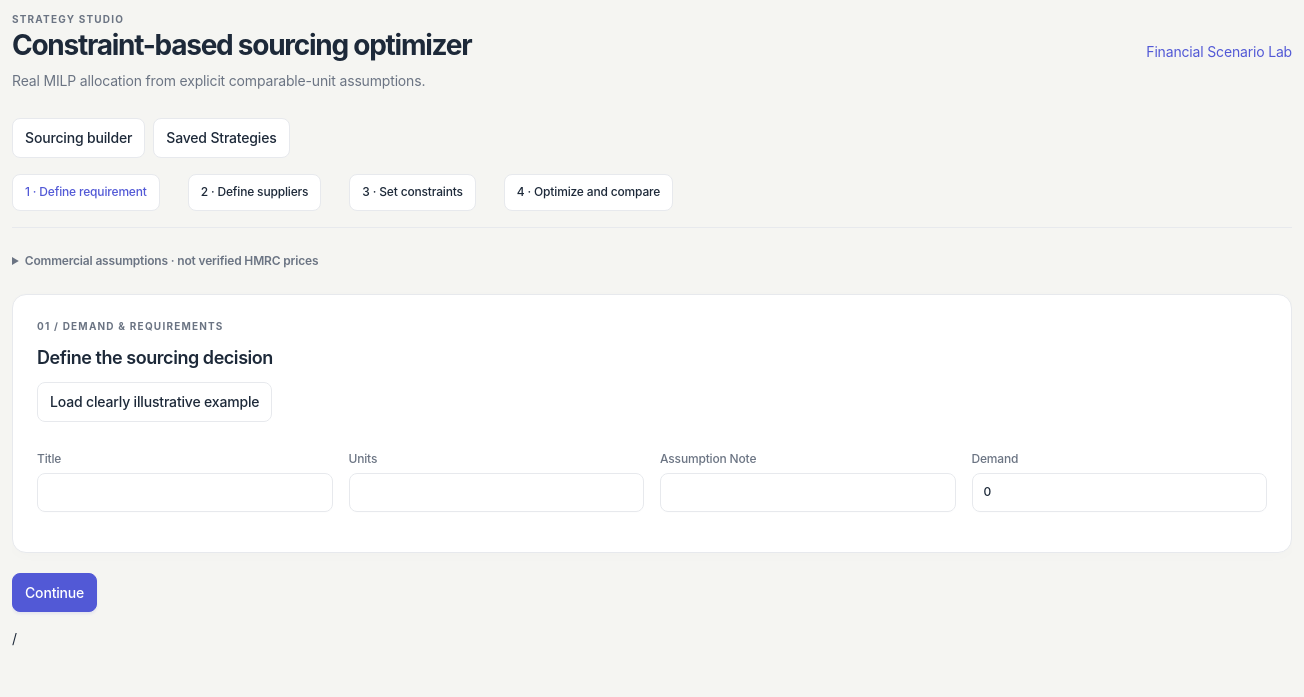
Connected workflow refinement › requires valid requirements before moving through the sourcing builder
The width and height of the screenshot is (1304, 697).
Click the button "Continue": (55, 593) [12, 573, 97, 612]
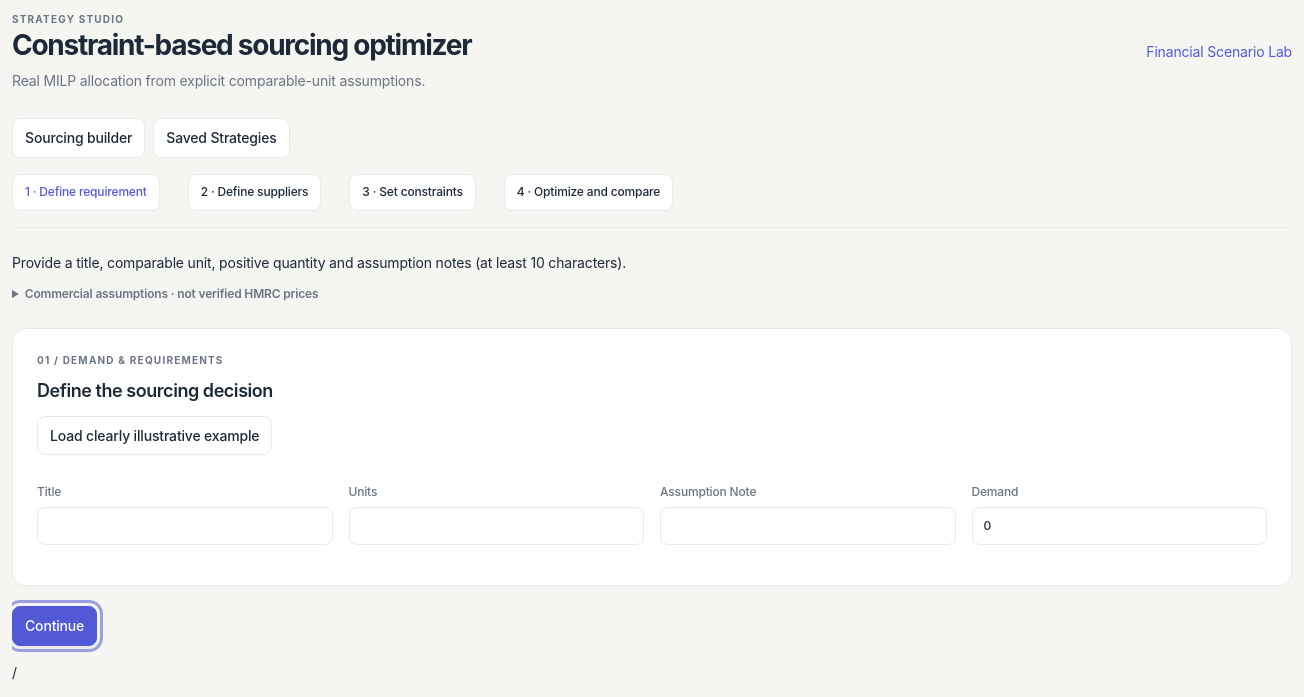
Now the message shows "positive quantity", box [12, 254, 626, 271]
Click the button "Load clearly illustrative example": (155, 435) [37, 416, 272, 455]
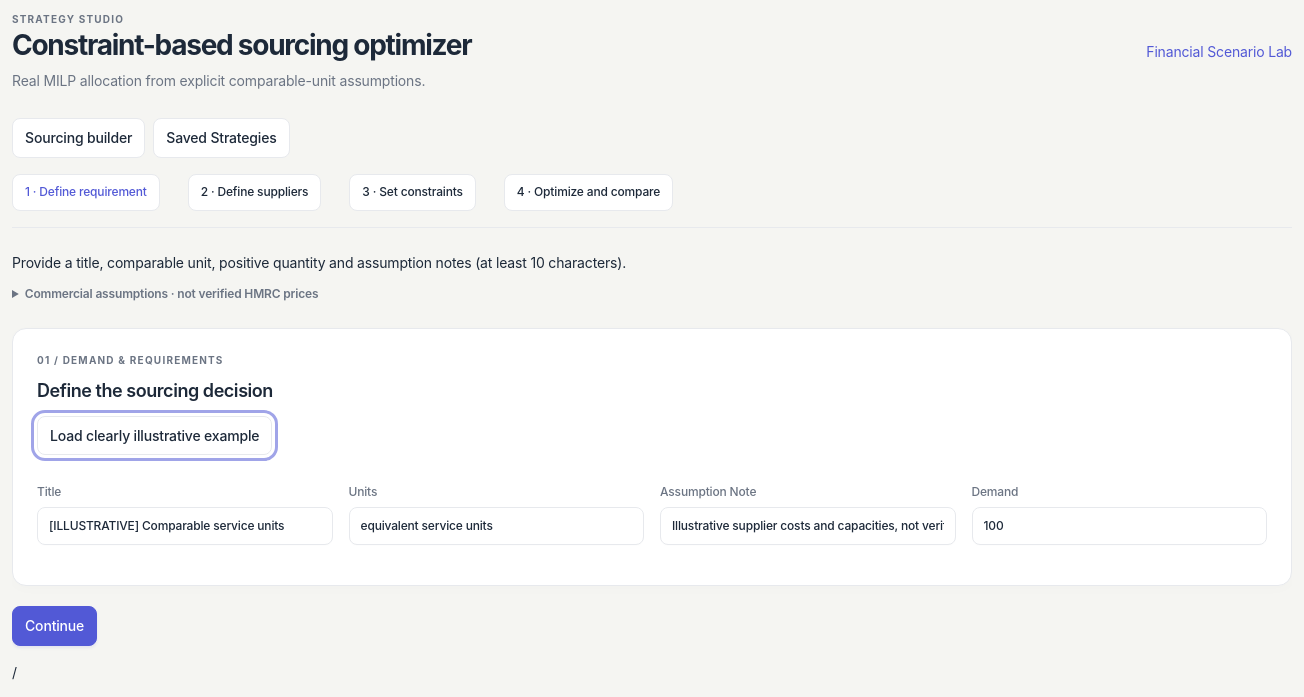
Click the button "Continue": (55, 626) [12, 606, 97, 646]
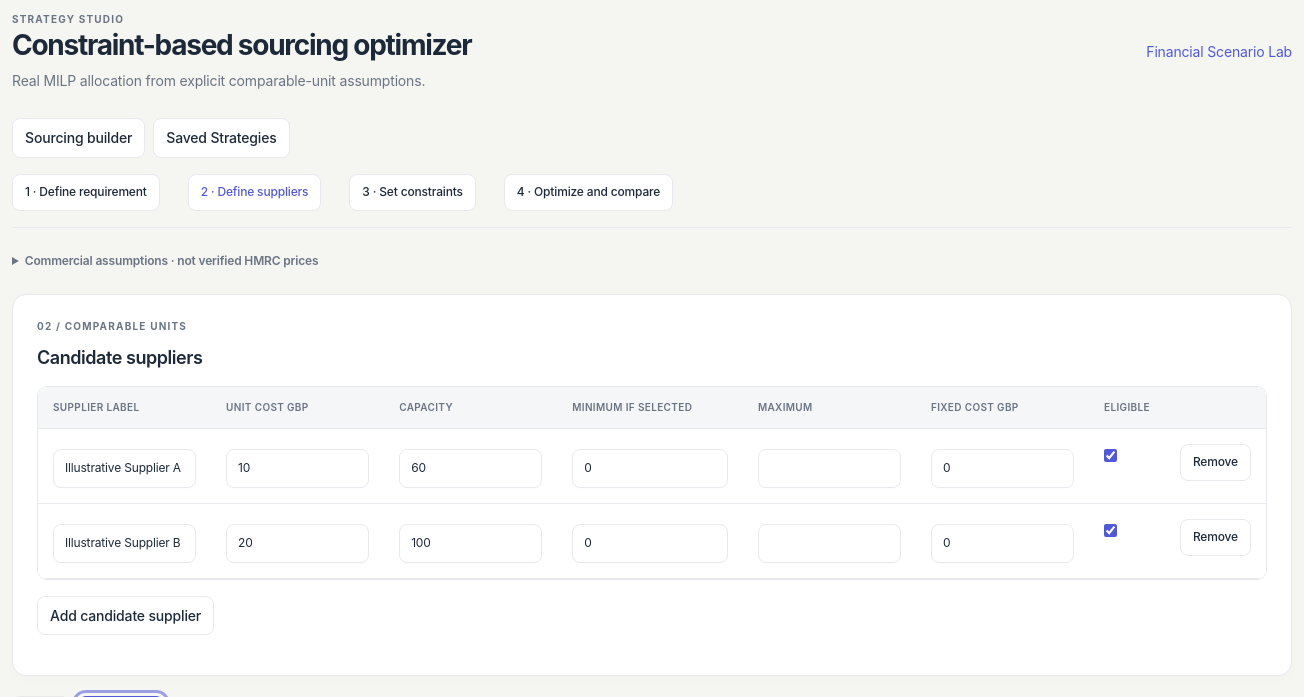
Now the field named "Supplier 1 Name" is shown, box [53, 449, 196, 488]
